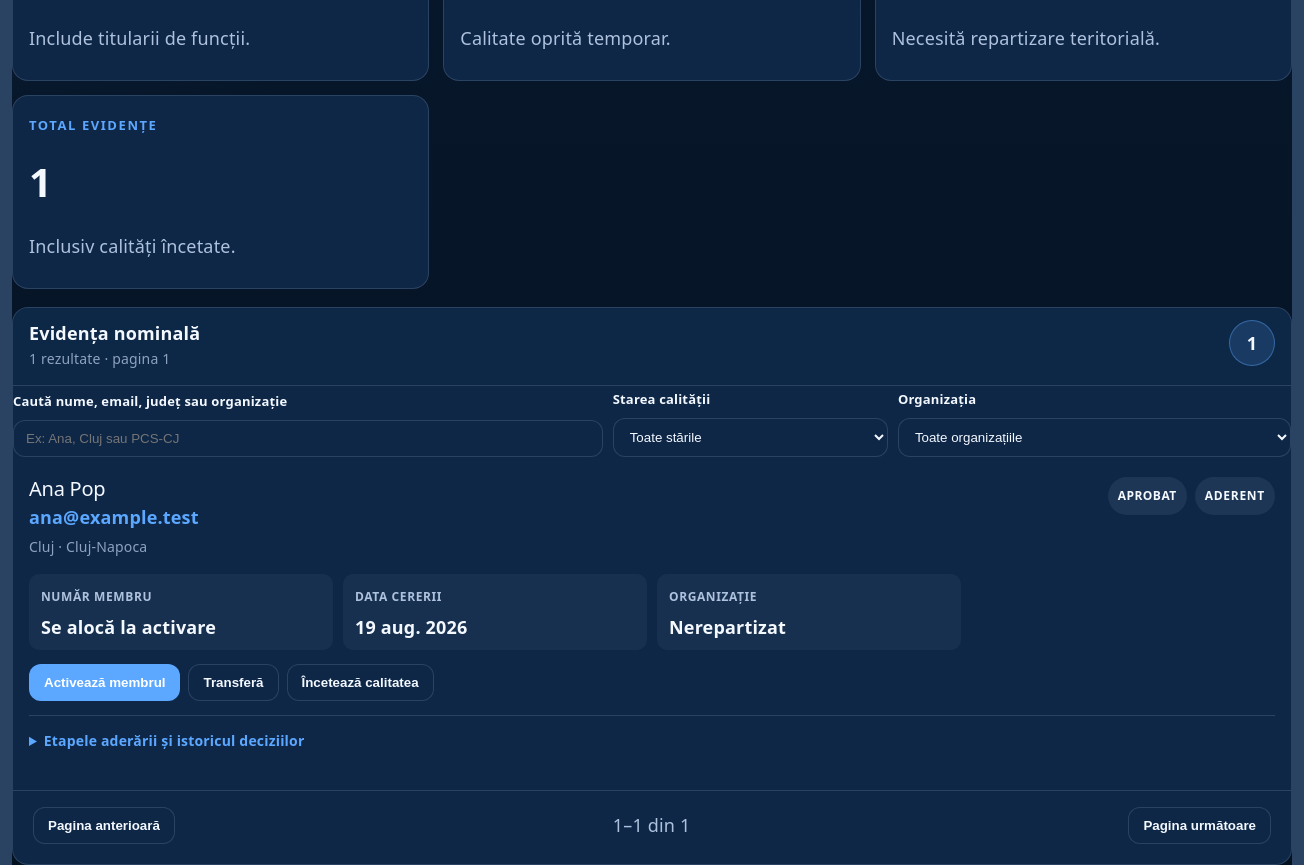
Test: AdminMembersDashboardPage › keeps membership stages in an expandable record while primary actions remain visible
The width and height of the screenshot is (1304, 865).
(page scrolled)
Expected: the button "Activează membrul" is shown, [29,664,180,701]
What coordinates should you click on to do the following:
click the heading "Etapele aderării și istoricul deciziilor"
I would click on:
 (174, 740)
Its box is [44,731,304,750].
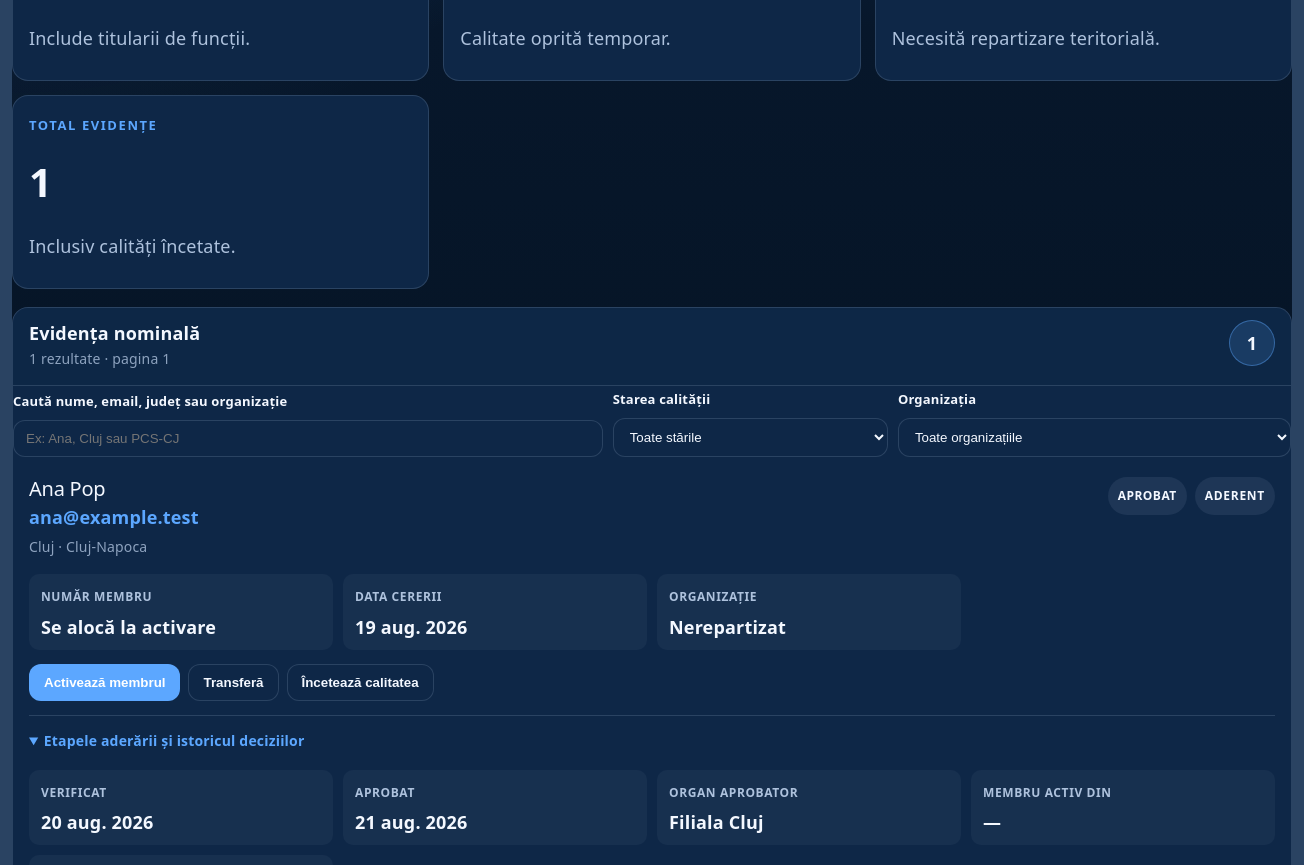
Expected: the text "Organ aprobator" is shown, [669,784,798,801]
Expected: the text "Filiala Cluj" is shown, [669,810,764,834]
